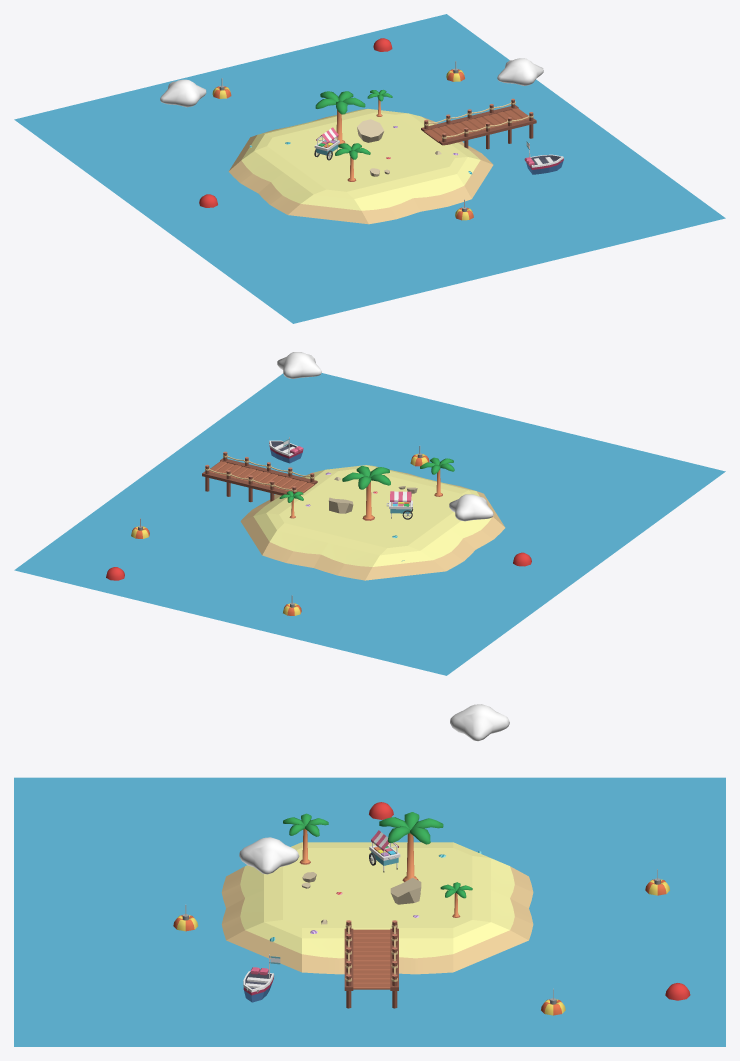
File: Beach.fbx
3 views of the same model, one above another, from view 1: azimuth 30°, elevation 25°; view 2: azimuth 150°, elevation 25°; view 3: azimuth 270°, elevation 25° (orthographic). The views are drawn at different scales.
Visible parts, largest first — view 1: Sea_MainFloor, Sand_Slope (×8), Sand_Plane, Sand_Slope_Middle (×3), Bridge_Beach, Cloud (×2), PalmTree, Boat, IceCreamCart, StoneX1; view 2: Sea_MainFloor, Sand_Slope (×7), Sand_Plane, Bridge_Beach, Sand_Slope_Middle (×2), Cloud (×2), PalmTree, Boat, IceCreamCart; view 3: Sea_MainFloor, Sand_Slope (×8), Sand_Plane, Sand_Slope_Middle (×2), Bridge_Beach, Cloud (×2), PalmTree, Boat, palmTree, IceCreamCart, StoneX1.
Boxes of the visible parts, x1,y1,x2,y2 form: Sea_MainFloor: (14,14,725,323); Sand_Slope (×8): (228,109,492,224); Sand_Plane: (280,118,441,186); Sand_Slope_Middle (×3): (229,134,493,224); Bridge_Beach: (421,98,536,149); Cloud (×2): (160,58,543,107); PalmTree: (315,91,365,144); Boat: (524,141,563,174); IceCreamCart: (314,127,339,160); StoneX1: (357,119,384,142); Sea_MainFloor: (14,373,725,675); Sand_Slope (×7): (241,469,504,580); Sand_Plane: (294,479,453,542); Bridge_Beach: (202,451,317,502); Sand_Slope_Middle (×2): (240,513,445,580); Cloud (×2): (277,352,493,521); PalmTree: (342,466,390,520); Boat: (269,437,303,463); IceCreamCart: (386,491,412,519); Sea_MainFloor: (14,777,725,1046); Sand_Slope (×8): (221,842,533,974); Sand_Plane: (302,856,453,919); Sand_Slope_Middle (×2): (226,920,528,972); Bridge_Beach: (344,920,398,1008); Cloud (×2): (239,704,509,874); PalmTree: (379,812,443,881); Boat: (243,954,280,1002); palmTree: (283,813,328,864); IceCreamCart: (369,830,400,872); StoneX1: (390,877,421,904).
Bounding box in the file's own units: 0.5049 × 0.1249 × 0.5643.
Materials: 2 (2 with a texture image).
